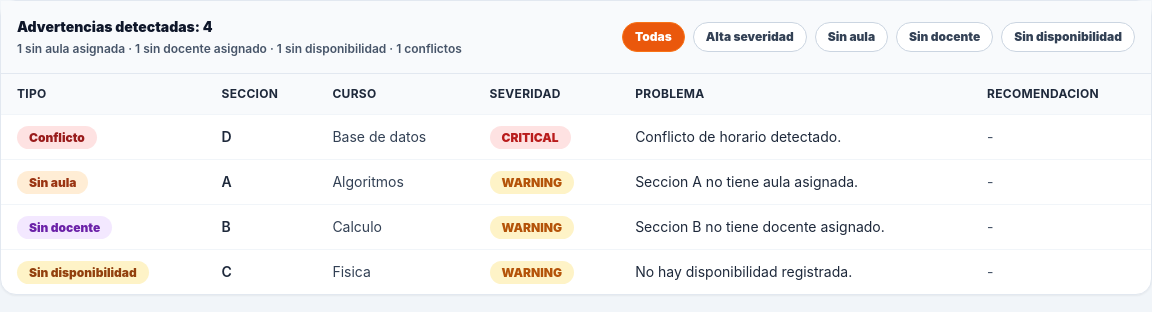
Test: CspIssueList › normaliza advertencias sin aula, docente y disponibilidad y permite filtrar
Check: the text "Advertencias detectadas: 4" is shown, box [17,18,213,35]
Check: the text "1 sin docente asignado" is shown, box [17,41,462,57]
Click the button "Sin docente": [945, 37] box [896,22,993,52]
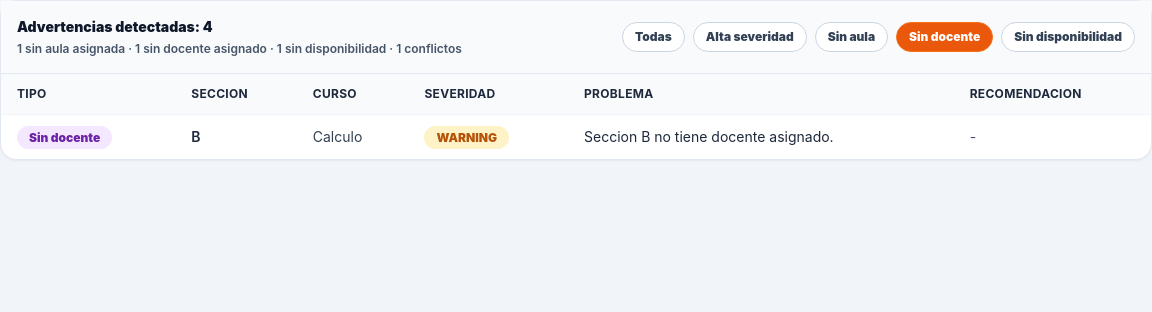
Check: the text "Calculo" is shown, box [297,114,408,159]
Check: the text "Algoritmos" is gone
Click the button "Alta severidad": [750, 37] box [693,22,807,52]
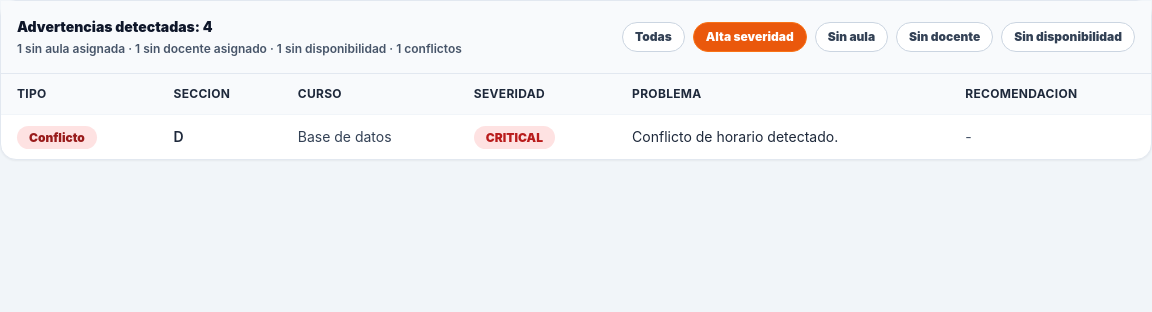
Check: the text "Base de datos" is shown, box [282,114,458,159]
Check: the text "Calculo" is gone
